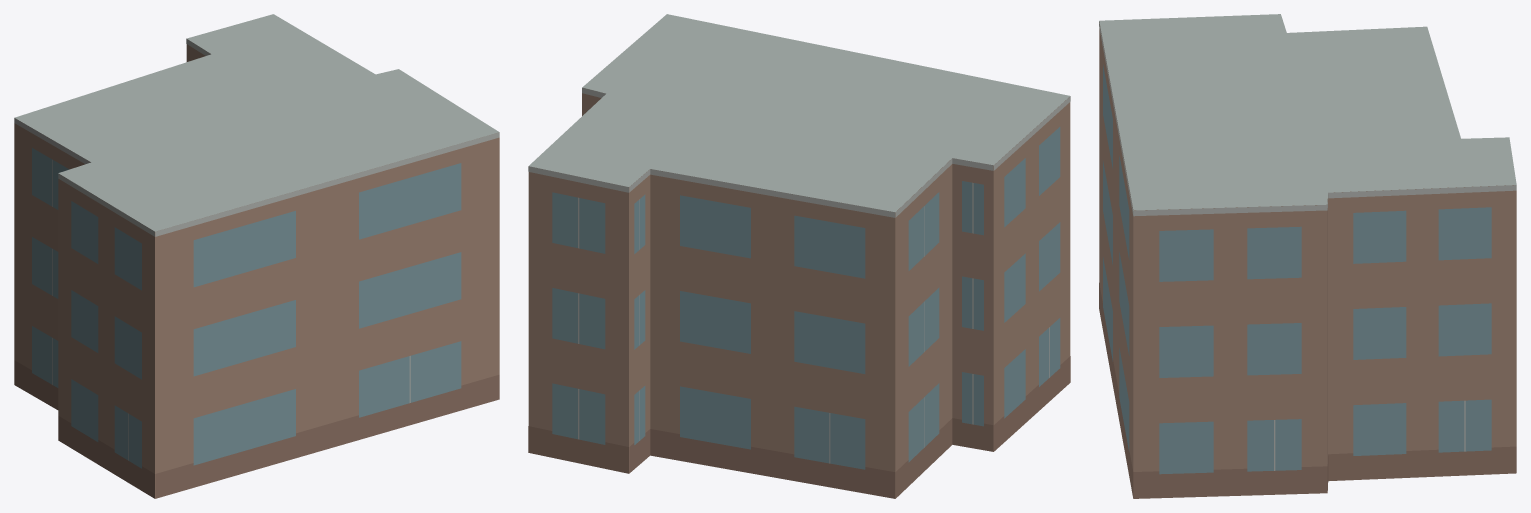
Rendered from survey-upis-32857226.glb.
3 views of the same model, side by side, from view 1: azimuth 30°, elevation 25°; view 2: azimuth 150°, elevation 25°; view 3: azimuth 270°, elevation 25° (orthographic). The views are drawn at different scales.
Visible parts, largest first — view 1: survey-upis-32857226.tmp; view 2: survey-upis-32857226.tmp; view 3: survey-upis-32857226.tmp.
Boxes of the visible parts, x1,y1,x2,y2 form: survey-upis-32857226.tmp: [14, 14, 499, 498]; survey-upis-32857226.tmp: [528, 14, 1070, 498]; survey-upis-32857226.tmp: [1099, 14, 1516, 498].
Size of the model in its own units: 17.98 by 12.3 by 16.15.
